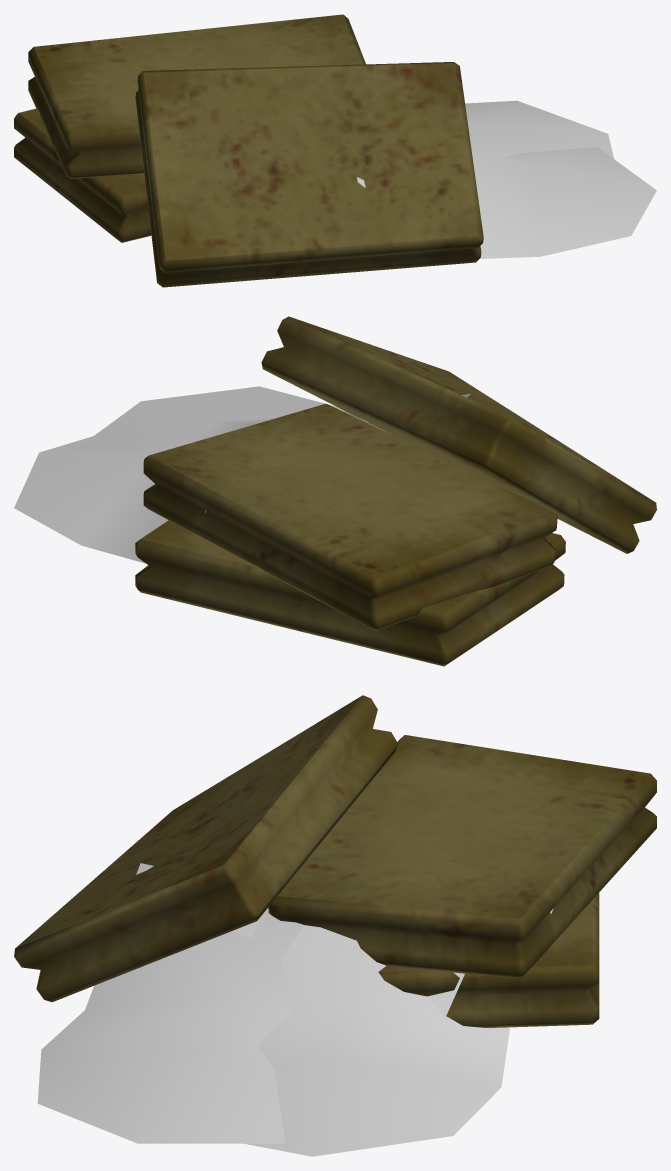
The model's file is Object_Sandbag_Damaged.fbx.
3 renders of one model, top to bottom at view 1: azimuth 30°, elevation 25°; view 2: azimuth 150°, elevation 25°; view 3: azimuth 270°, elevation 25°, orthographic. The views are drawn at different scales.
Parts seen in each view (by area): view 1: Object_Sandbag_Damaged; view 2: Object_Sandbag_Damaged; view 3: Object_Sandbag_Damaged.
Part boxes in pixels (<box>): Object_Sandbag_Damaged: <box>14,14,656,287</box>; Object_Sandbag_Damaged: <box>14,316,656,666</box>; Object_Sandbag_Damaged: <box>14,695,656,1156</box>.
Size of the model in its own units: 3.68 by 1.09 by 3.27.
